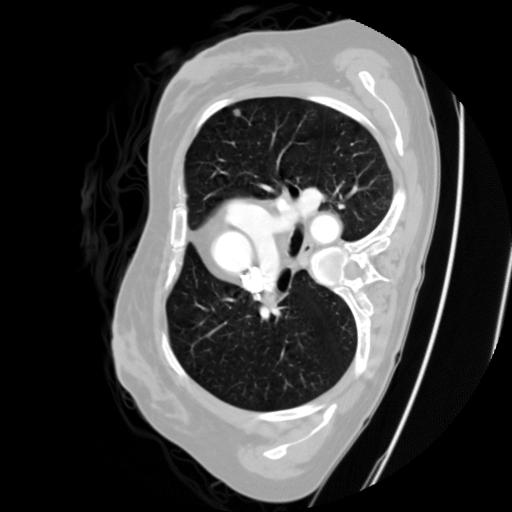nodule: (229, 107, 244, 122)
